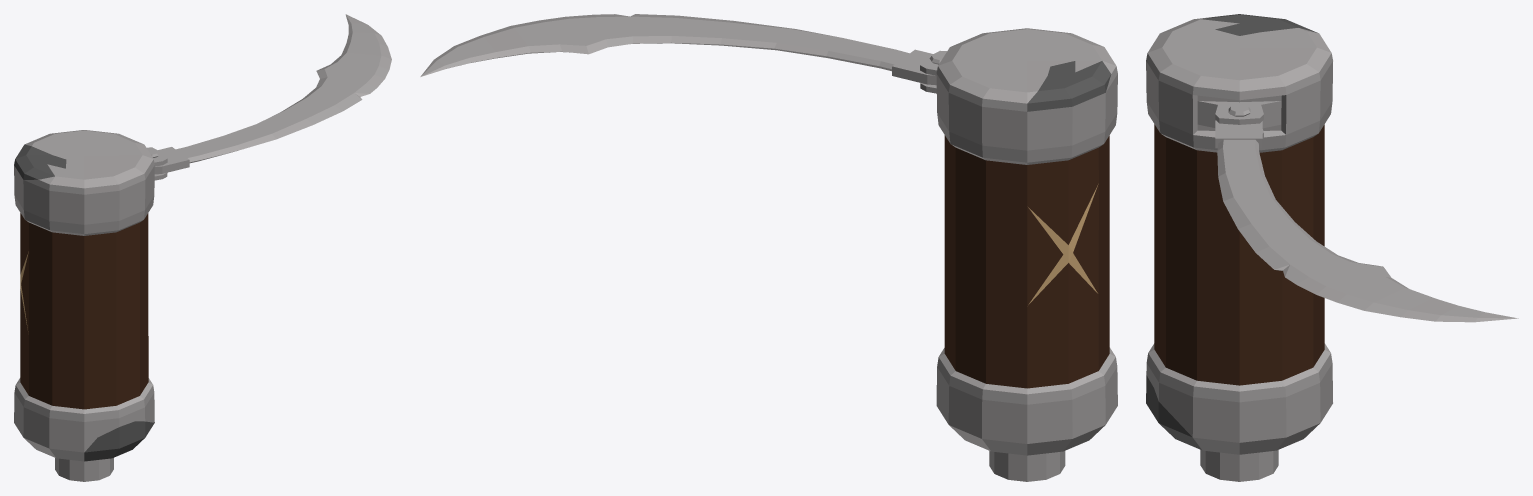
File: SMLBladeSpinning_2.fbx
3 views of the same model, side by side, from view 1: azimuth 30°, elevation 25°; view 2: azimuth 150°, elevation 25°; view 3: azimuth 270°, elevation 25° (orthographic). The views are drawn at different scales.
Parts seen in each view (by area): view 1: SMLBladeSpinning_2; view 2: SMLBladeSpinning_2; view 3: SMLBladeSpinning_2.
Boxes of the visible parts, box(x1,y1,x2,y2) form: SMLBladeSpinning_2: box(14, 14, 391, 481); SMLBladeSpinning_2: box(420, 14, 1117, 481); SMLBladeSpinning_2: box(1146, 14, 1518, 481).
Bounding box in the file's own units: 164 × 114 × 92.1.
